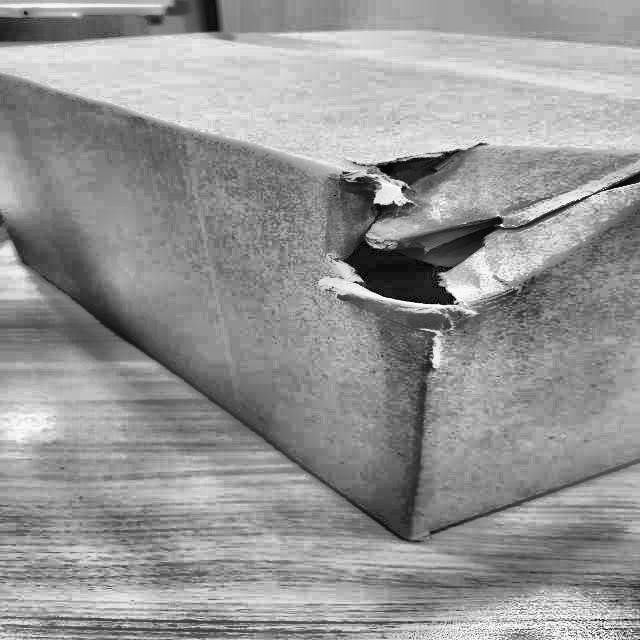box: (1, 24, 639, 561)
hole: (302, 142, 640, 317)
